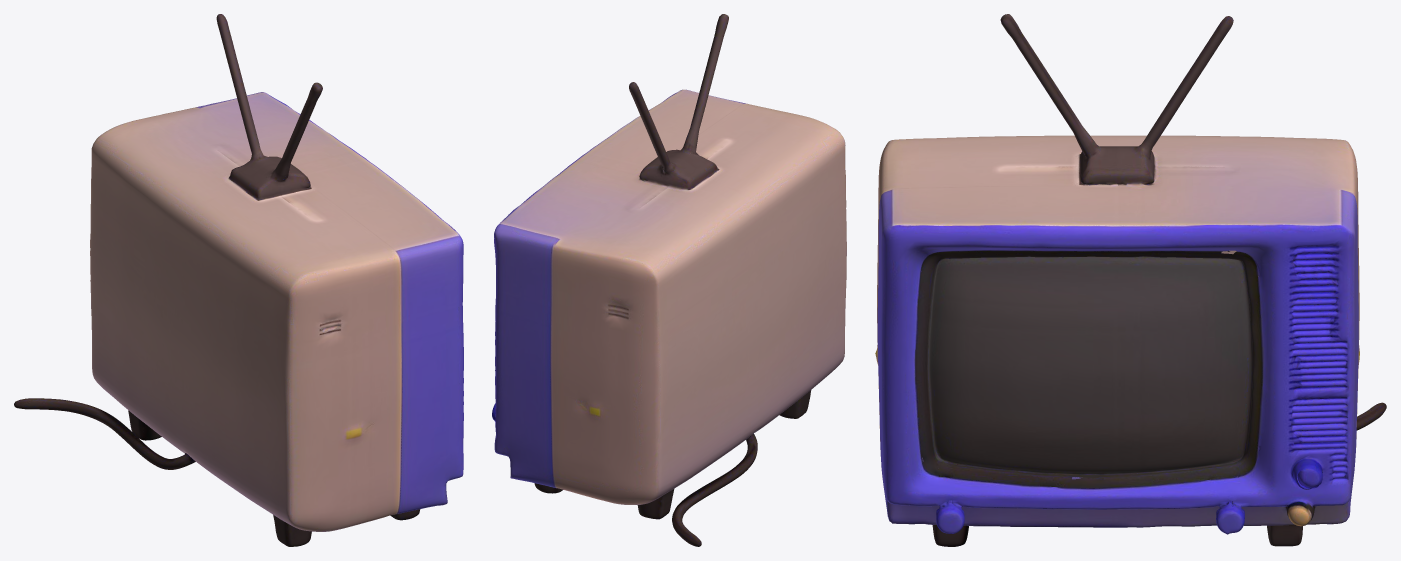
The model's file is menu_crt_tv.glb.
3 renders of one model, left to right at view 1: azimuth 30°, elevation 25°; view 2: azimuth 150°, elevation 25°; view 3: azimuth 270°, elevation 25°, orthographic. The views are drawn at different scales.
Parts seen in each view (by area): view 1: tripo_node_37970b9f-8d61-4966-8d3b-1673337c2fb1; view 2: tripo_node_37970b9f-8d61-4966-8d3b-1673337c2fb1; view 3: tripo_node_37970b9f-8d61-4966-8d3b-1673337c2fb1.
Part boxes in pixels (bbox=[...]): tripo_node_37970b9f-8d61-4966-8d3b-1673337c2fb1: bbox=[14, 14, 463, 546]; tripo_node_37970b9f-8d61-4966-8d3b-1673337c2fb1: bbox=[492, 14, 846, 546]; tripo_node_37970b9f-8d61-4966-8d3b-1673337c2fb1: bbox=[875, 14, 1386, 546].
Size of the model in its own units: 0.6081 by 0.9793 by 0.9202.
Materials: 1 (1 with a texture image).
